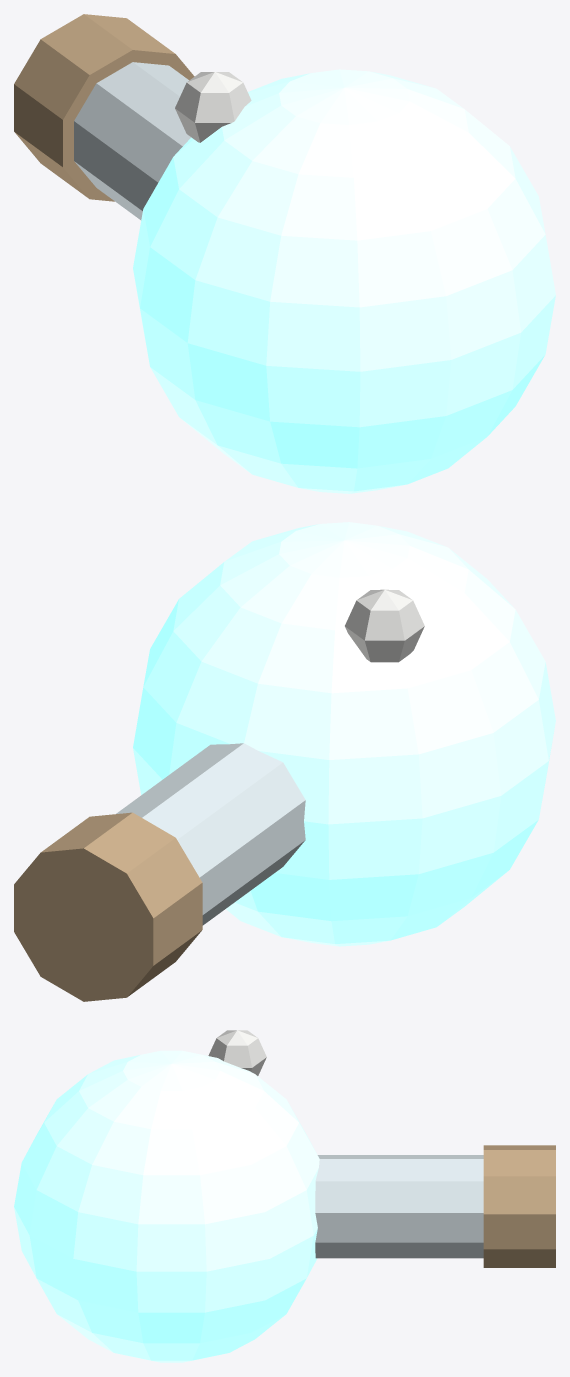
Rendered from water_breathing_held.gltf.
3 renders of one model, top to bottom at view 1: azimuth 30°, elevation 25°; view 2: azimuth 150°, elevation 25°; view 3: azimuth 270°, elevation 25°, orthographic. The views are drawn at different scales.
Visible parts, largest first — view 1: alchemy_water_breathing_held; view 2: alchemy_water_breathing_held; view 3: alchemy_water_breathing_held.
Part boxes in pixels (x1,y1,x2,y2): alchemy_water_breathing_held: (14,14,555,493); alchemy_water_breathing_held: (14,522,555,1001); alchemy_water_breathing_held: (14,1030,555,1362).
Bounding box in the file's own units: 0.0936 × 0.097 × 0.165.
